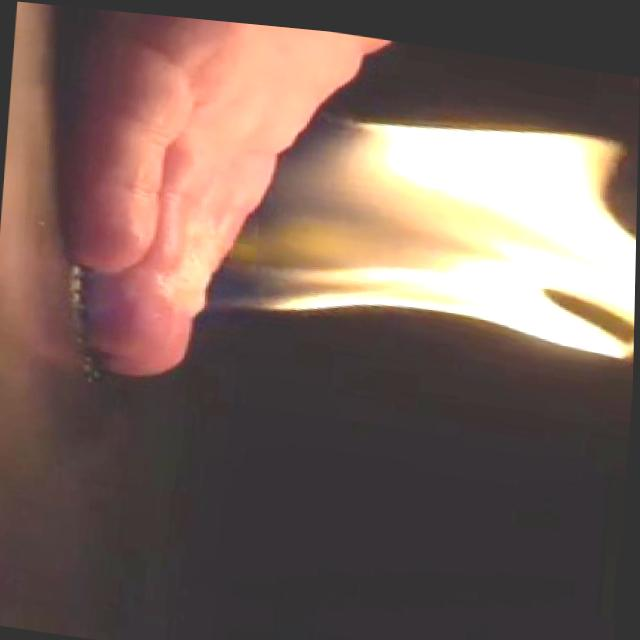no_helmet: (160, 64, 639, 364)
